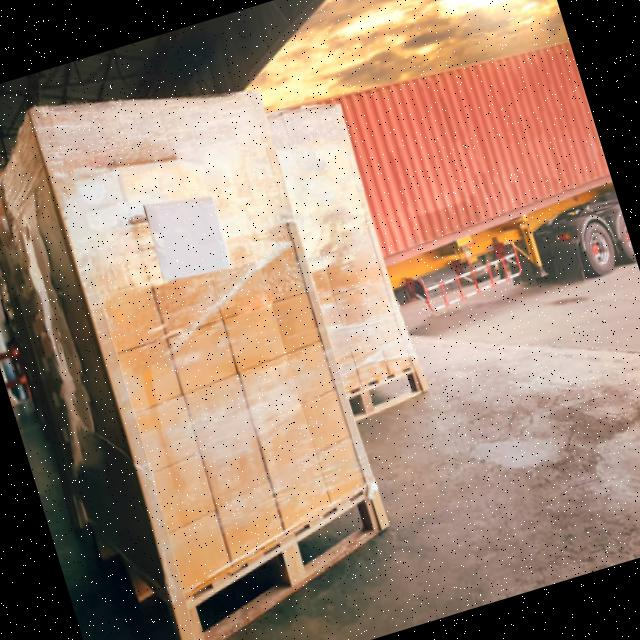Wooden-Pallets: (173, 477, 393, 640), (347, 362, 429, 433)
